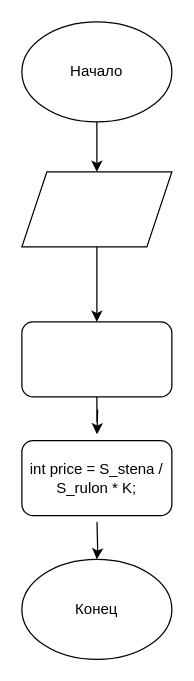
This 194x681 diagram has some shape labels left out. The box of each missing label's shape, as (x1, y1, x2, y2) in pixels:
int S_stena = A * B int S_rulon = 12 * 1: (21, 321, 172, 397)
Ввод параметров А, В, К: (21, 171, 172, 247)
